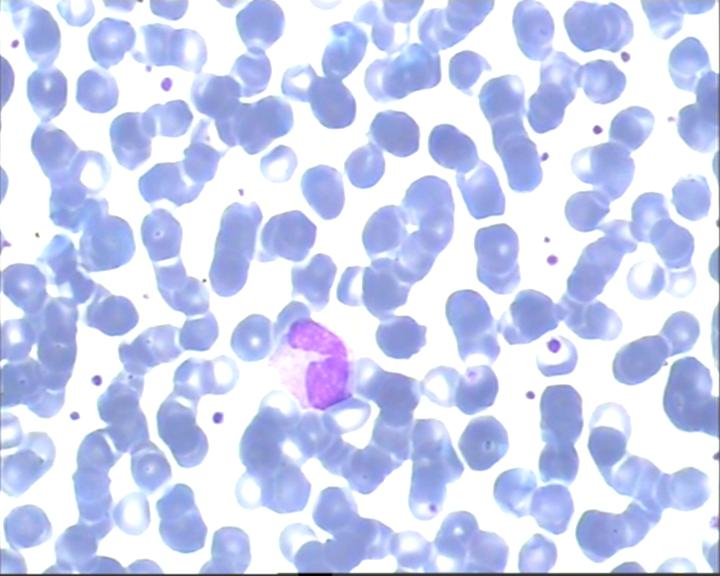mono: (270, 314, 357, 414)
